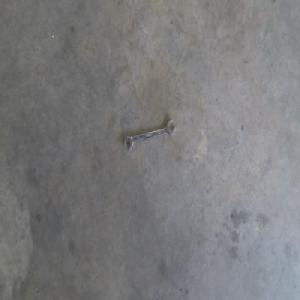Wrench: (122, 119, 176, 153)
